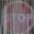Stop: (1, 6, 33, 32)
